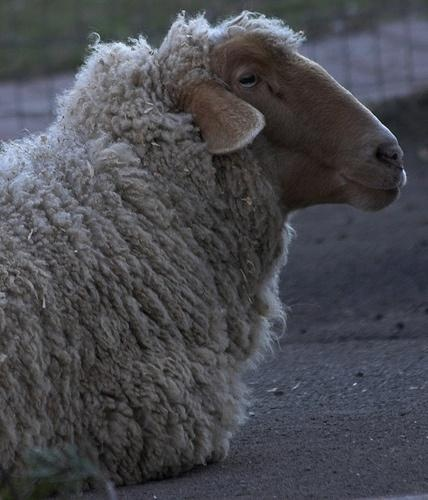sheep: (1, 11, 411, 493)
